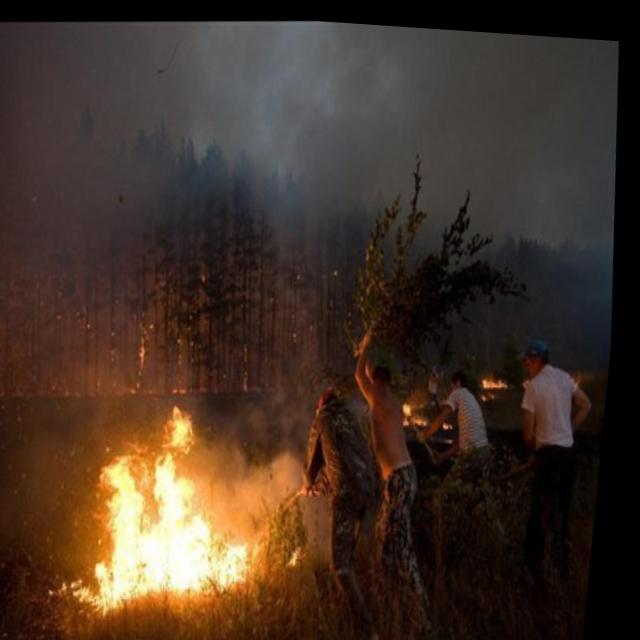Fire: (46, 379, 333, 617), (395, 347, 520, 451)
